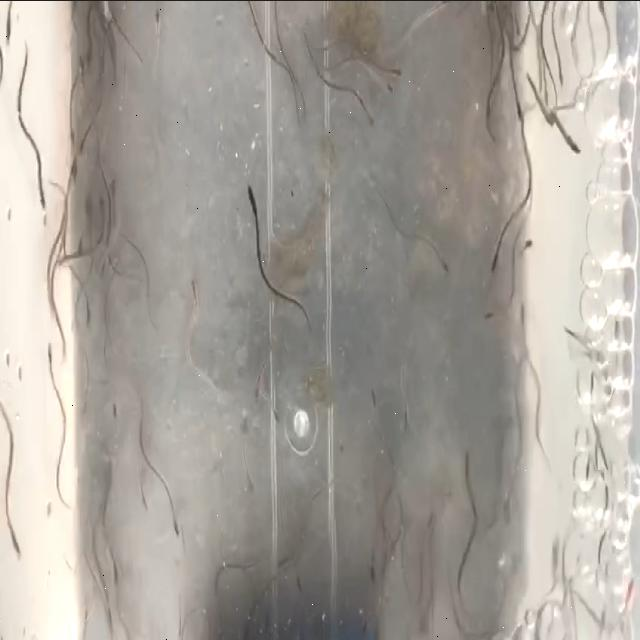active_glass_eel: (128, 477, 152, 528), (431, 234, 454, 280), (8, 514, 26, 567), (390, 41, 409, 90), (246, 376, 266, 422), (40, 335, 60, 377), (478, 98, 503, 130), (180, 278, 202, 314), (85, 8, 102, 53), (166, 506, 186, 544), (98, 175, 114, 222), (75, 0, 89, 52), (425, 488, 439, 538), (566, 119, 584, 157), (45, 267, 62, 305), (244, 178, 258, 224), (465, 506, 479, 551), (80, 287, 94, 331), (98, 509, 114, 546), (3, 6, 17, 48), (358, 106, 383, 128), (292, 556, 306, 594), (511, 81, 526, 116), (243, 460, 260, 490), (106, 400, 124, 428), (270, 392, 286, 423), (34, 189, 50, 219), (48, 106, 63, 136), (364, 548, 377, 582), (365, 370, 382, 396), (109, 558, 122, 592), (525, 232, 537, 268), (485, 244, 499, 274), (436, 0, 454, 23), (70, 120, 84, 148), (150, 0, 162, 32), (401, 402, 413, 434), (484, 299, 492, 329)
